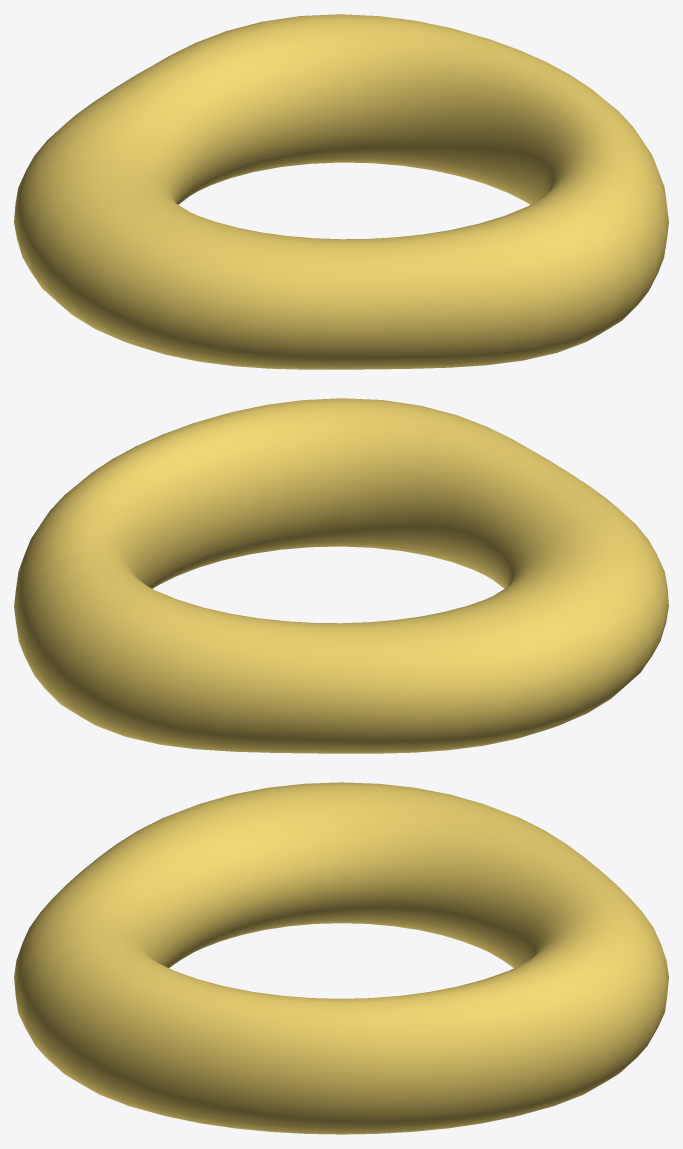
The model's file is GOAL_ACHIEVED.glb.
3 renders of one model, top to bottom at view 1: azimuth 30°, elevation 25°; view 2: azimuth 150°, elevation 25°; view 3: azimuth 270°, elevation 25°, orthographic.
Visible parts, largest first — view 1: ArcShape; view 2: ArcShape; view 3: ArcShape.
Part boxes in pixels (<box>): ArcShape: <box>14,14,668,369</box>; ArcShape: <box>14,398,668,753</box>; ArcShape: <box>14,782,668,1134</box>.
Size of the model in its own units: 2.42 by 0.5592 by 2.47.
